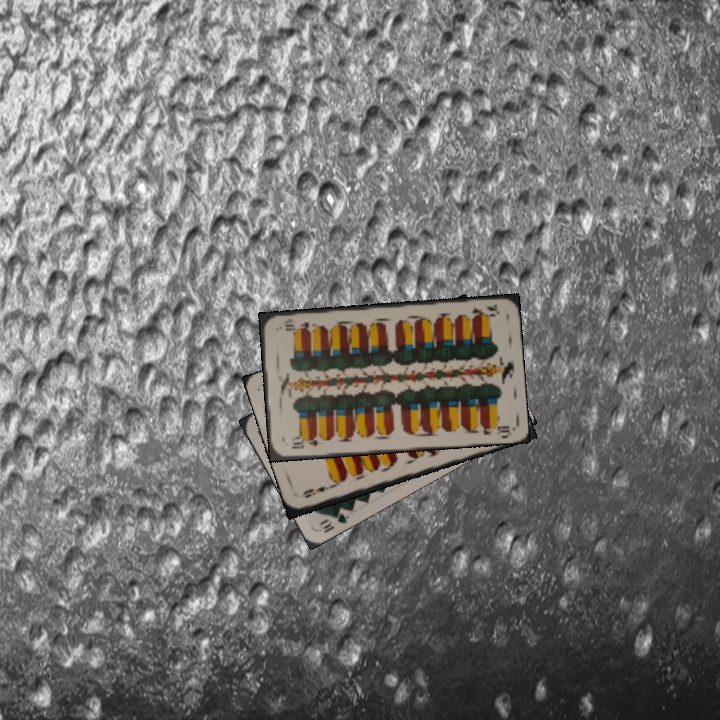E10: (463, 300, 501, 321), (287, 434, 320, 451)
E9: (298, 480, 337, 500)
G10: (315, 504, 352, 536)
